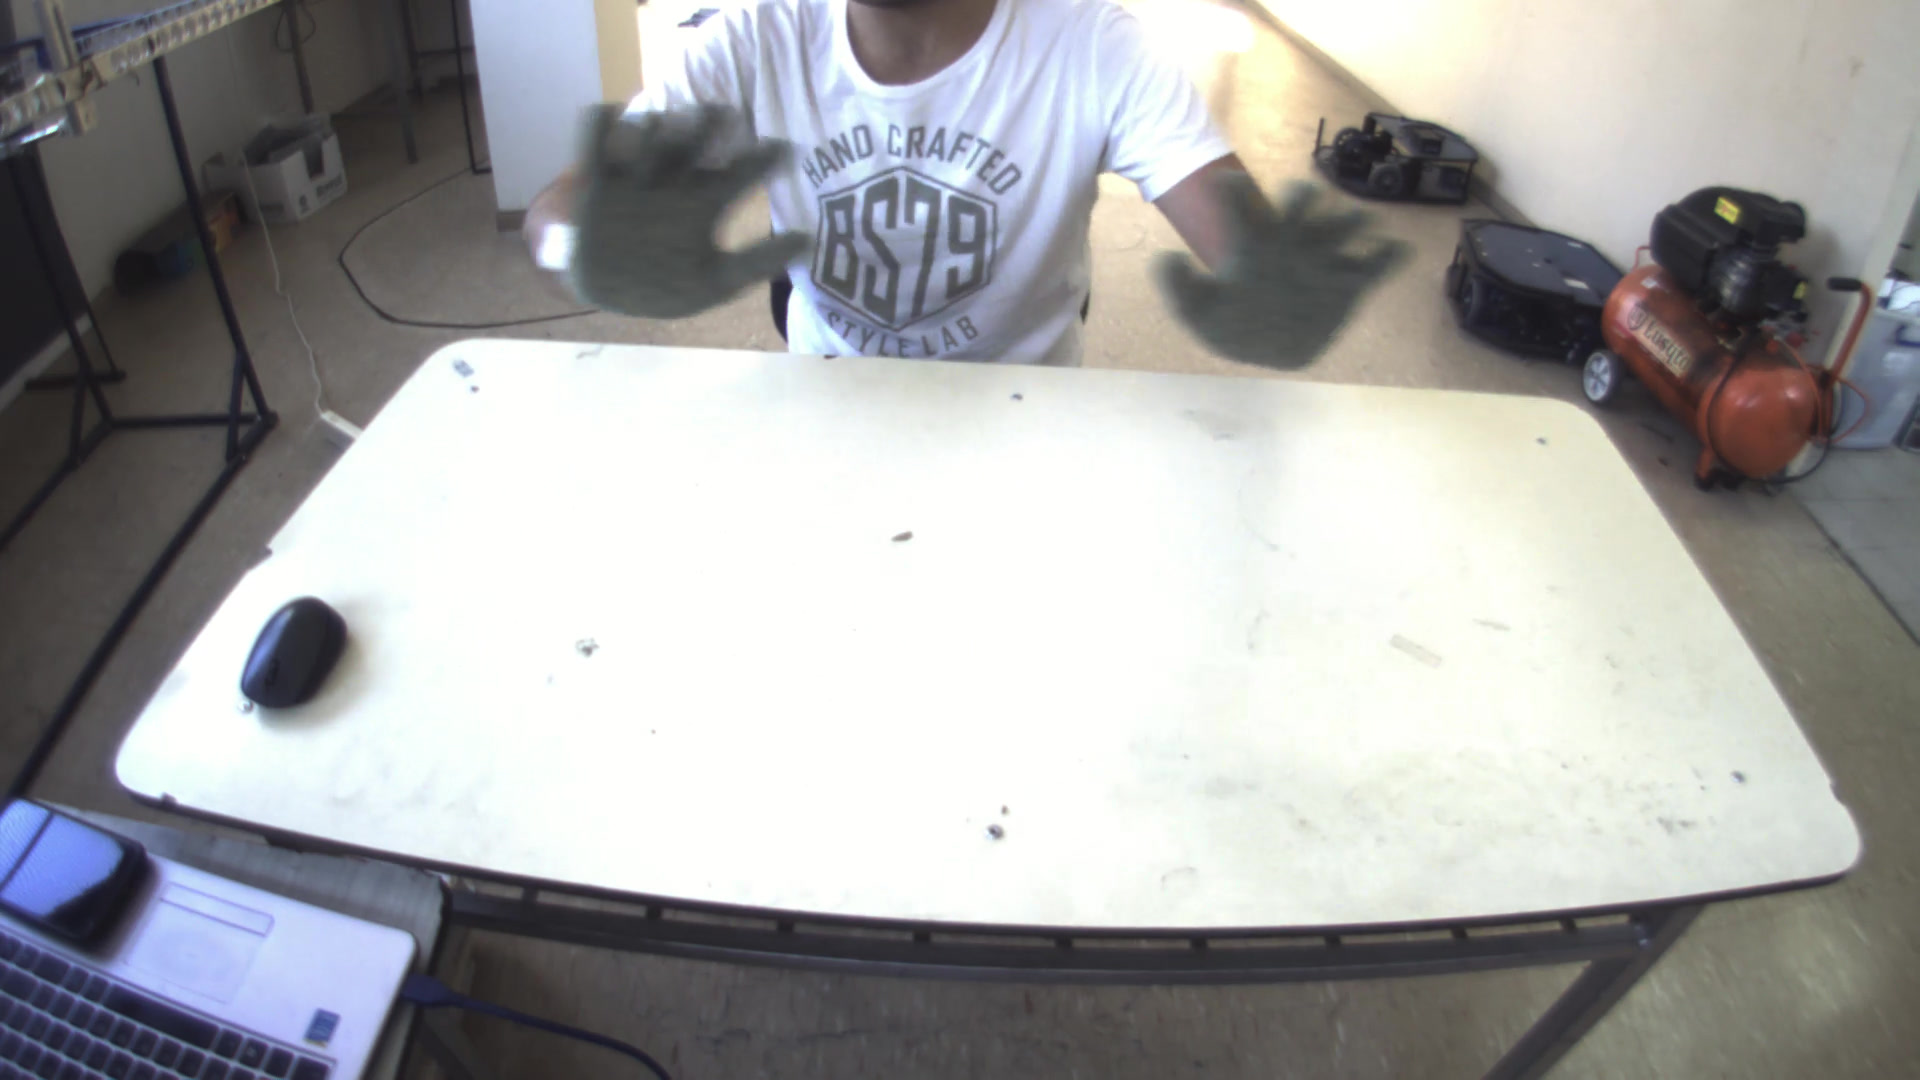hand: (556, 80, 785, 313)
handw: (1153, 167, 1420, 385)
